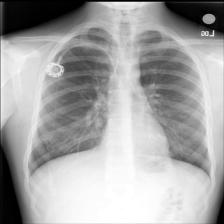normal: (24, 24, 214, 190)
